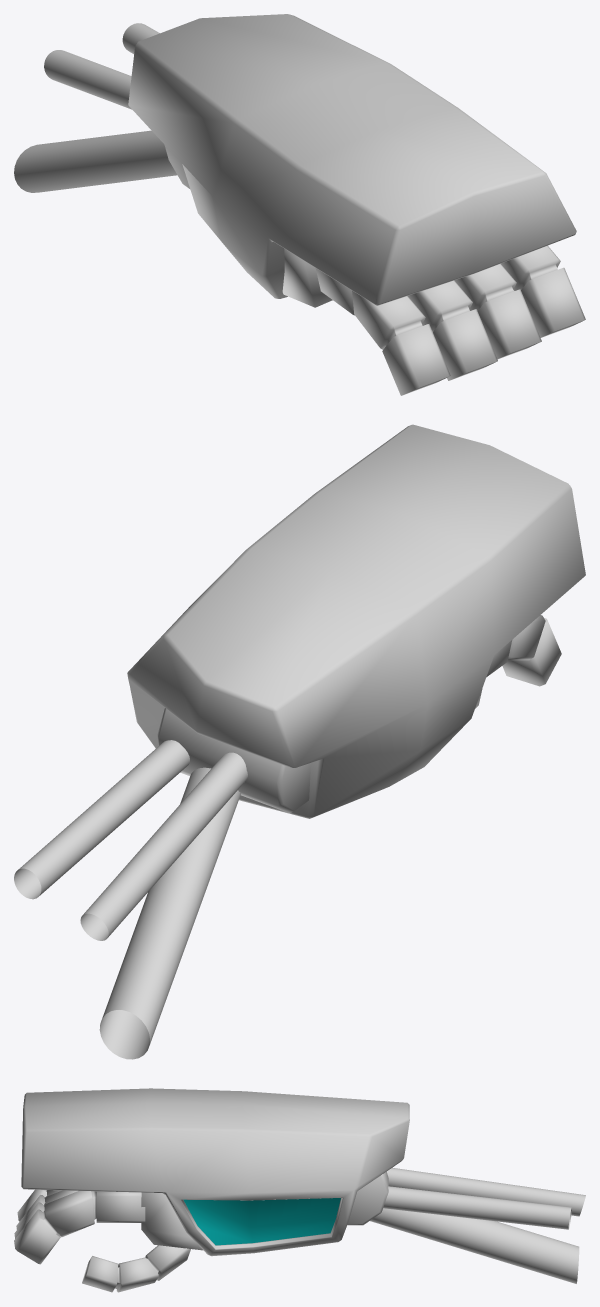
Rendered from Tank_Arm_Right.fbx.
The picture shows the model from 3 angles, top to bottom: view 1: azimuth 30°, elevation 25°; view 2: azimuth 150°, elevation 25°; view 3: azimuth 270°, elevation 25°; orthographic projection. The views are drawn at different scales.
Parts seen in each view (by area): view 1: mesh_tank_robot_Arm_Right; view 2: mesh_tank_robot_Arm_Right; view 3: mesh_tank_robot_Arm_Right.
Boxes of the visible parts, x1,y1,x2,y2 form: mesh_tank_robot_Arm_Right: (14,14,585,395); mesh_tank_robot_Arm_Right: (14,424,585,1059); mesh_tank_robot_Arm_Right: (14,1088,585,1292).
Bounding box in the file's own units: 166 × 182 × 481.
